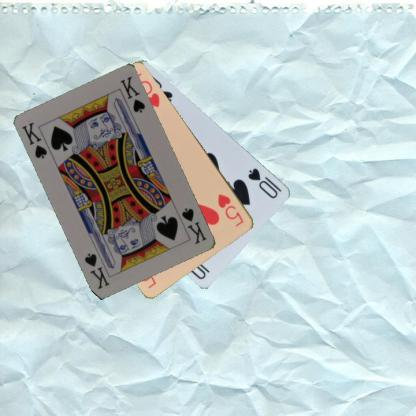10s: (246, 165, 283, 200)
5h: (215, 191, 245, 228)
Ks: (179, 205, 209, 246), (19, 120, 49, 160)
